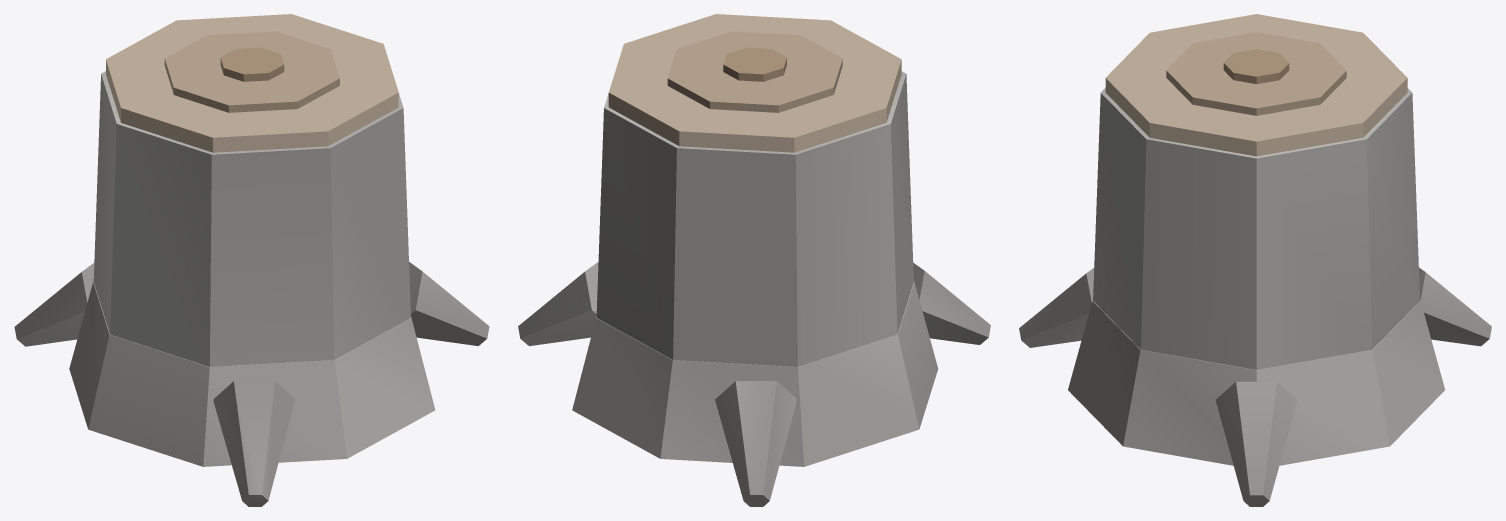
The model's file is Tree_Birch_Used.fbx.
The picture shows the model from 3 angles, left to right: view 1: azimuth 30°, elevation 25°; view 2: azimuth 150°, elevation 25°; view 3: azimuth 270°, elevation 25°; orthographic projection.
Visible parts, largest first — view 1: Res_Tree_Birch_Used; view 2: Res_Tree_Birch_Used; view 3: Res_Tree_Birch_Used.
Part boxes in pixels (x1,y1,x2,y2): Res_Tree_Birch_Used: [14, 14, 489, 506]; Res_Tree_Birch_Used: [518, 14, 990, 506]; Res_Tree_Birch_Used: [1019, 14, 1491, 506].
Size of the model in its own units: 0.5577 by 0.4515 by 0.5764.
